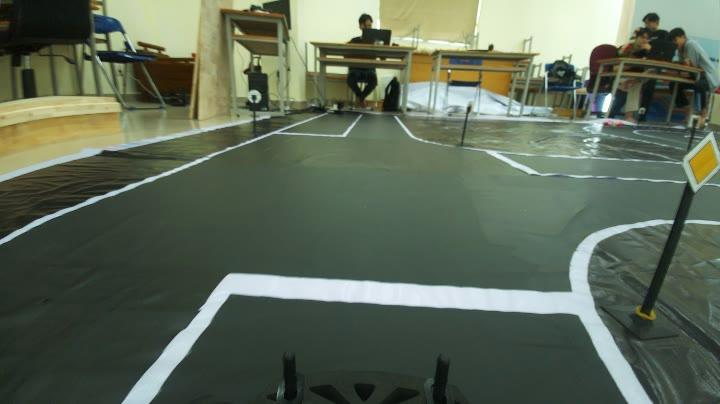priority: (667, 120, 720, 198)
